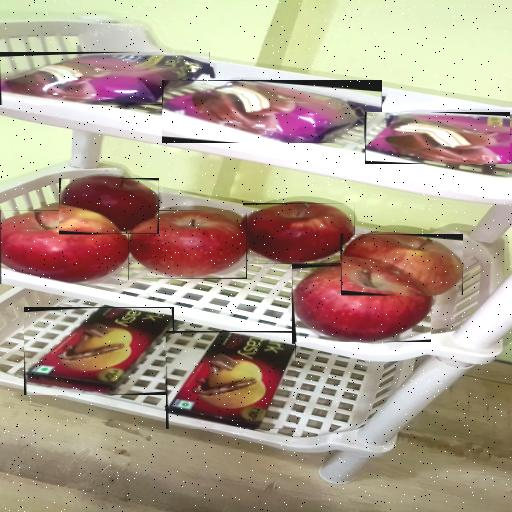Apple: (292, 263, 431, 342), (0, 210, 129, 284), (128, 210, 247, 279), (341, 234, 463, 295), (243, 203, 355, 264), (59, 178, 159, 234)
Choco Fills: (24, 307, 174, 395), (166, 331, 296, 429)
Choco Pie: (162, 80, 382, 143), (0, 52, 210, 105), (365, 112, 510, 164)
